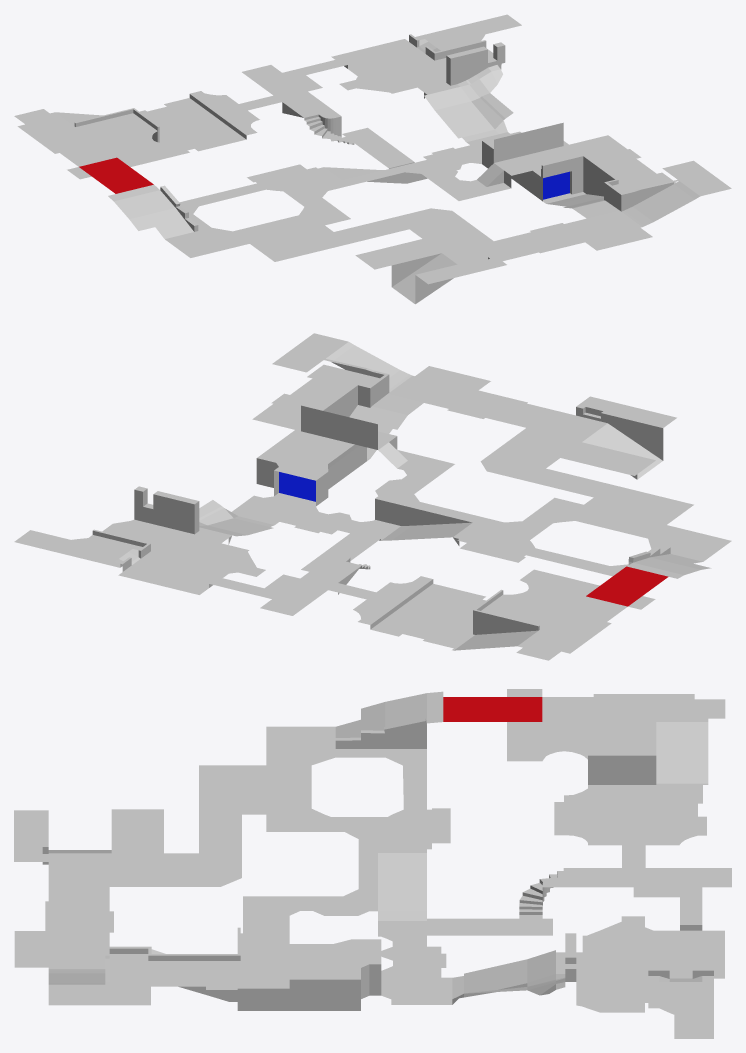
The model's file is Map1.fbx.
3 views of the same model, one above another, from view 1: azimuth 30°, elevation 25°; view 2: azimuth 150°, elevation 25°; view 3: azimuth 270°, elevation 25° (orthographic). The views are drawn at different scales.
Visible parts, largest first — view 1: Plane.001; view 2: Plane.001; view 3: Plane.001.
Boxes of the visible parts, left/top/right/bottom form: Plane.001: left=14, top=14, right=731, bottom=304; Plane.001: left=14, top=333, right=731, bottom=660; Plane.001: left=14, top=689, right=731, bottom=1038.
Bounding box in the file's own units: 60.73 × 6.65 × 55.85.
